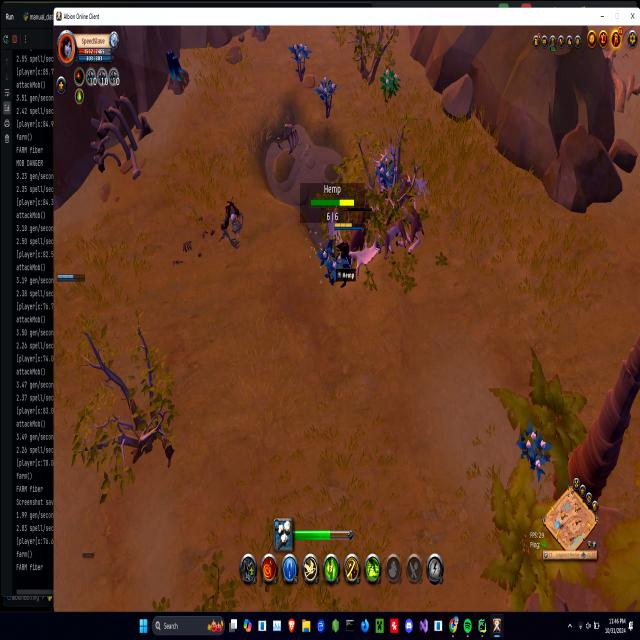hide: (518, 422, 551, 477), (318, 239, 338, 282), (376, 155, 397, 195), (290, 39, 310, 75), (317, 74, 336, 110), (380, 67, 399, 100)
mob: (398, 166, 428, 258), (372, 215, 407, 261)
ore: (332, 192, 376, 264), (219, 198, 244, 249)
player: (165, 48, 190, 92)
red: (334, 220, 356, 272), (54, 271, 82, 284)
